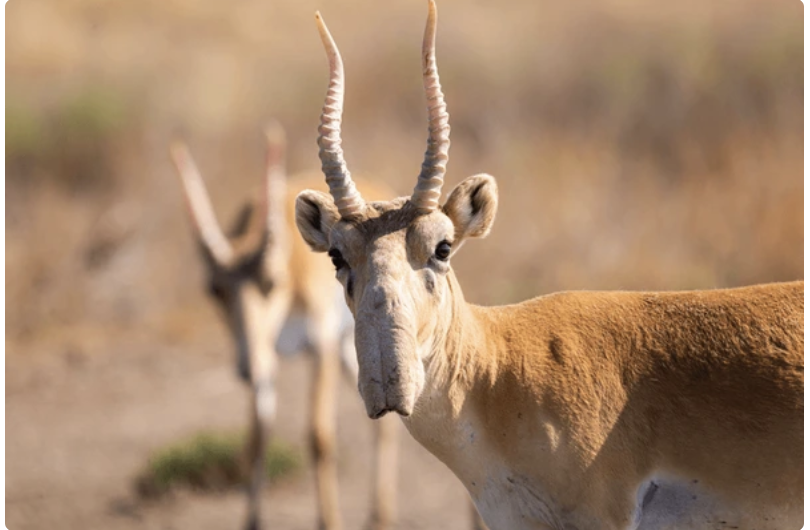saiga: (306, 7, 810, 528)
